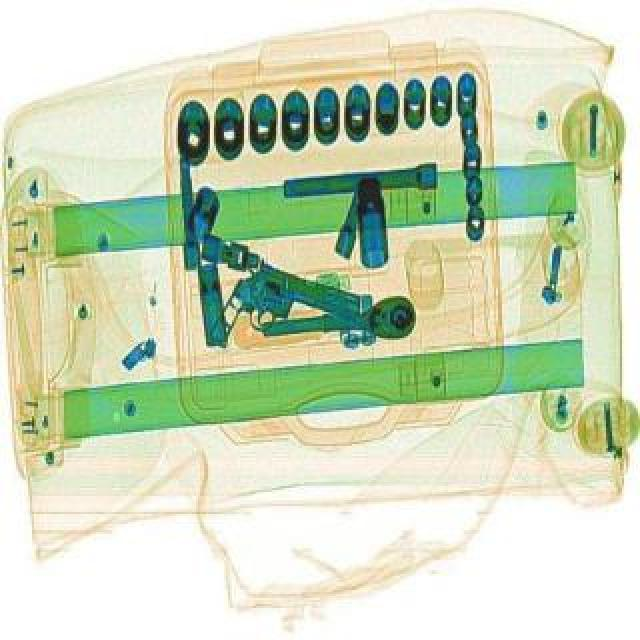gun: (206, 254, 366, 382)
